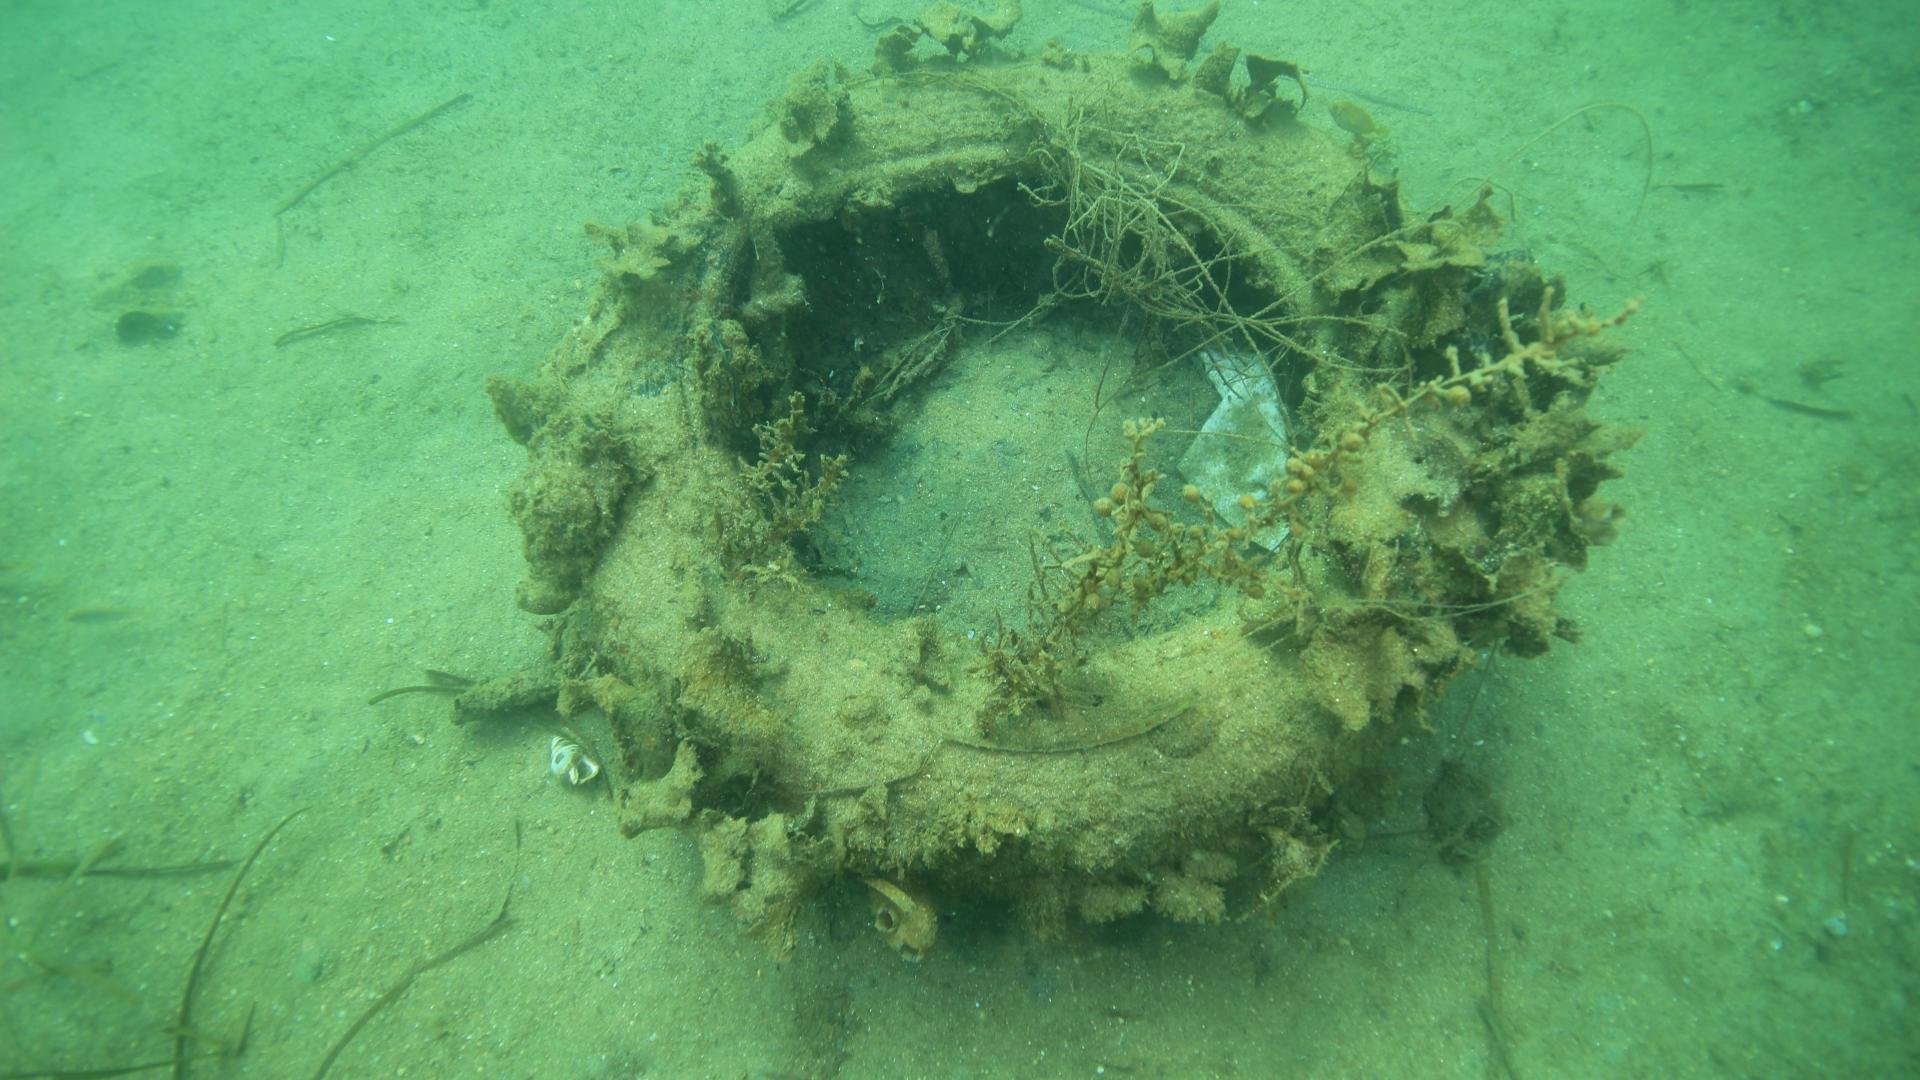tire: (524, 34, 1499, 913)
